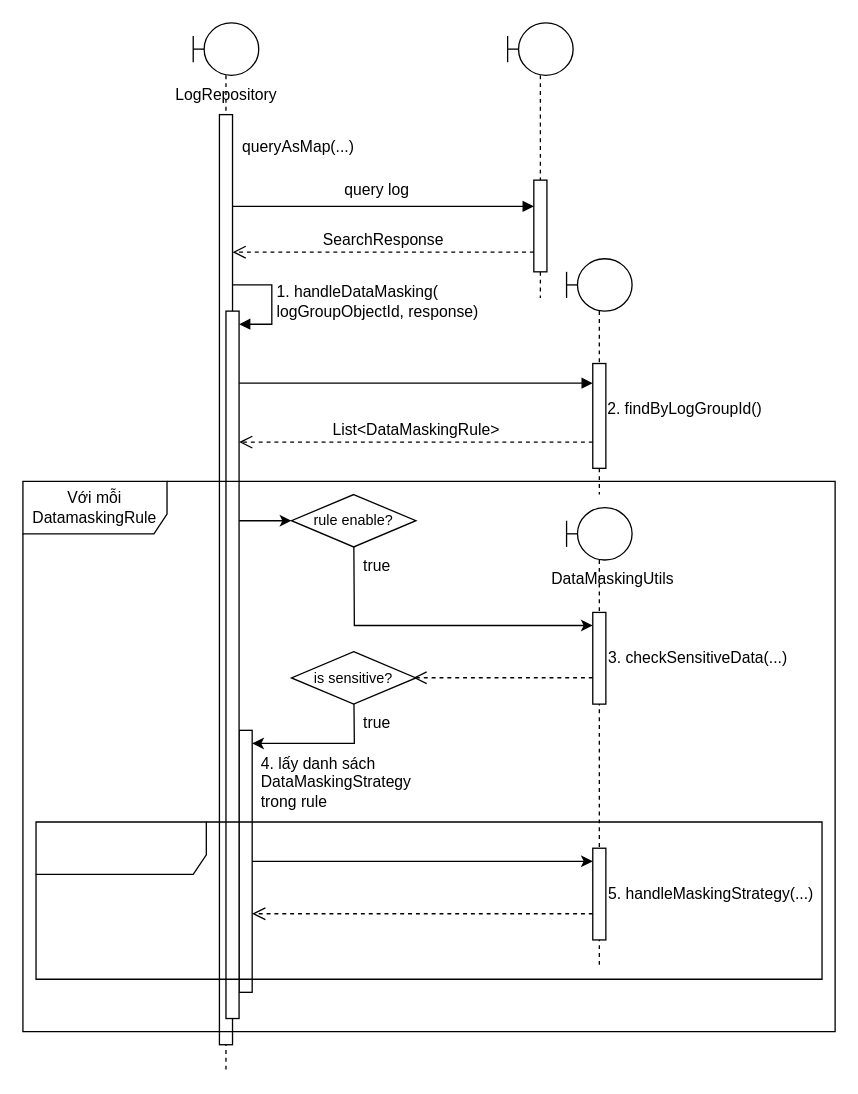
The diagram is 858 pixels wide and 1094 high, and some of its shapes have lost their labels. Here are the shapes that lost their labels. From the top down, the centre of each, then its label:
At point (539, 160): "ElasticSearch".
At point (598, 376): "DataMaskingRuleRepository".
At point (428, 900): "Với mỗi DatamaskingStrategy".
